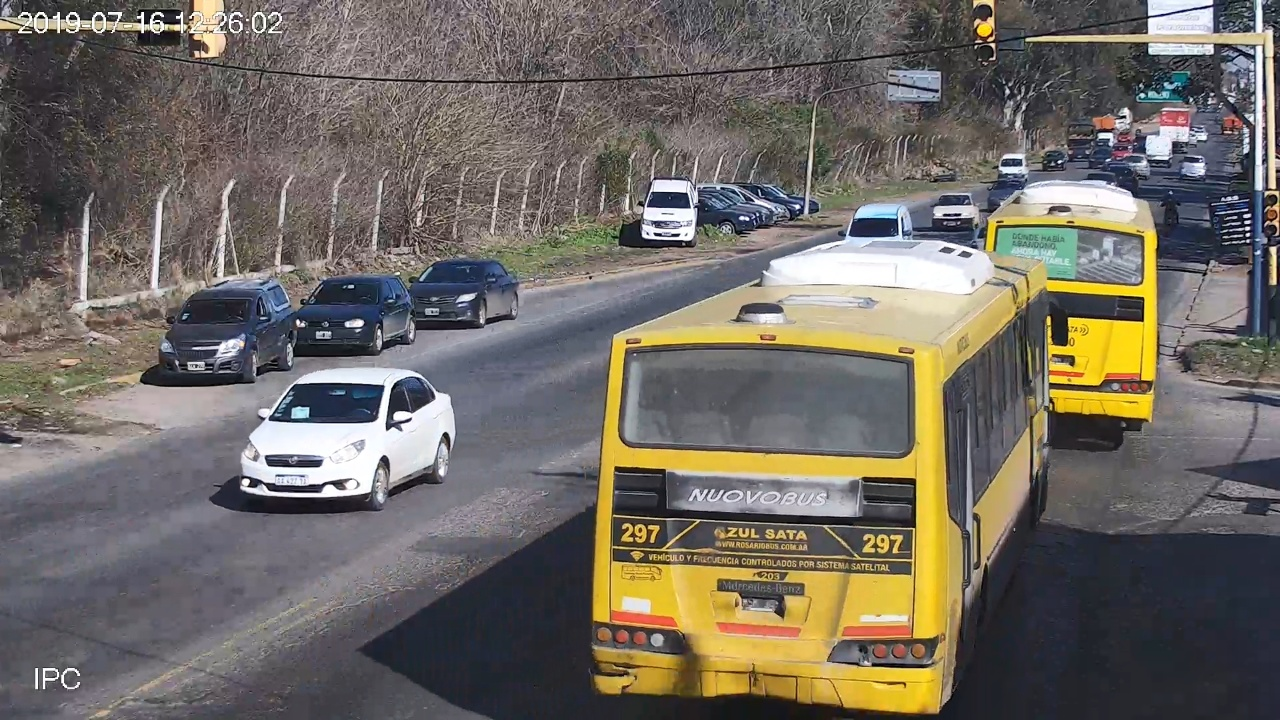bus: (586, 243, 1069, 720)
front car: (239, 369, 457, 510)
traffic light: (974, 1, 996, 61), (1265, 190, 1279, 237)
